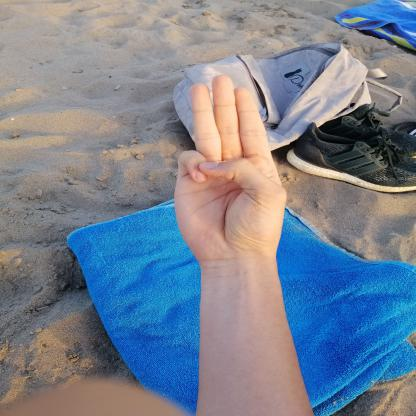THA: (155, 66, 308, 270)
